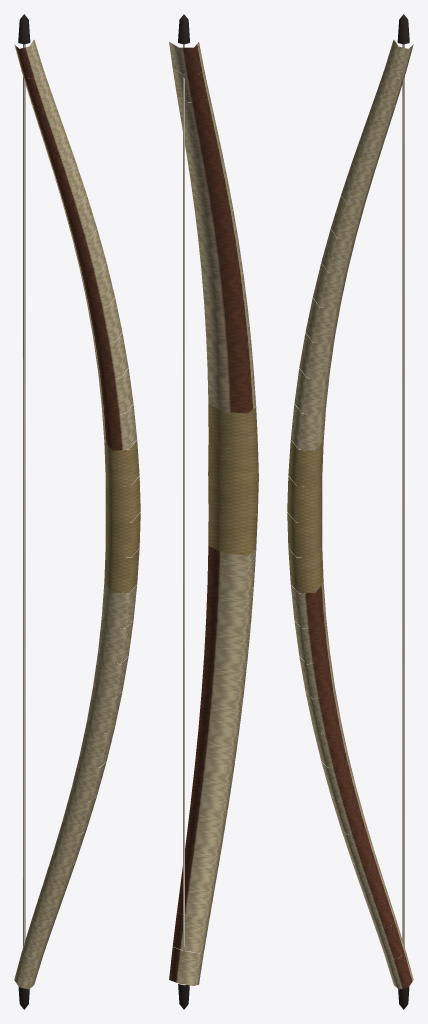
Rendered from bow-sabina-v0.glb.
3 renders of one model, left to right at view 1: azimuth 90°, elevation 25°; view 2: azimuth 150°, elevation 25°; view 3: azimuth 270°, elevation 25°, orthographic.
Visible parts, largest first — view 1: bow-sabina-v0; view 2: bow-sabina-v0; view 3: bow-sabina-v0.
Boxes of the visible parts, x1,y1,x2,y2 form: bow-sabina-v0: (14,14,140,1009); bow-sabina-v0: (169,14,258,1009); bow-sabina-v0: (287,14,413,1009).
Bounding box in the file's own units: 0.0638 × 1.44 × 0.1661.
Materials: 1 (1 with a texture image).
